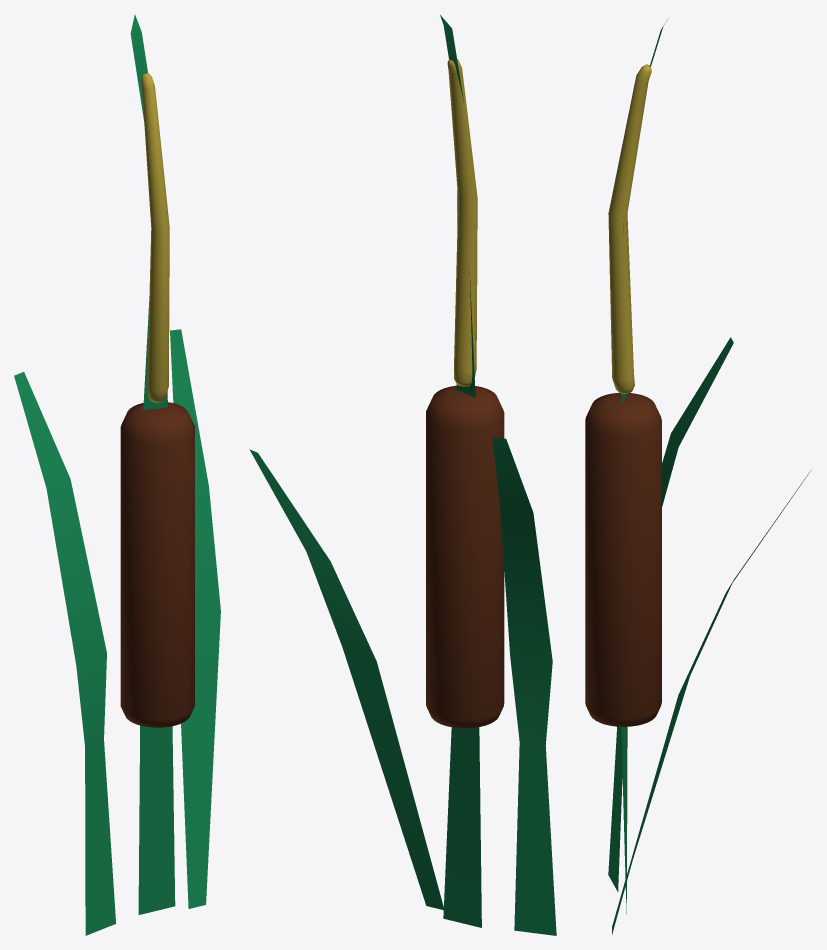
The model's file is cattail.glb.
The picture shows the model from 3 angles, left to right: view 1: azimuth 30°, elevation 25°; view 2: azimuth 150°, elevation 25°; view 3: azimuth 270°, elevation 25°; orthographic projection. The views are drawn at different scales.
Visible parts, largest first — view 1: Cylinder, Plane, Plane.001, Plane.002, Cylinder.001; view 2: Cylinder, Plane, Plane.001, Plane.002, Cylinder.001; view 3: Cylinder, Cylinder.001, Plane, Plane.001, Plane.002.
Boxes of the visible parts, x1,y1,x2,y2 form: Cylinder: (120,402,194,727); Plane: (14,372,115,935); Plane.001: (170,329,220,908); Plane.002: (130,14,175,914); Cylinder.001: (141,73,169,402); Cylinder: (426,385,504,728); Plane: (492,437,556,935); Plane.001: (249,449,443,909); Plane.002: (440,15,481,927); Cylinder.001: (447,59,477,386); Cylinder: (585,392,661,726); Cylinder.001: (608,64,651,394); Plane: (608,337,733,891); Plane.001: (612,470,810,934); Plane.002: (621,20,667,914).
Bounding box in the file's own units: 1.39 × 5.7 × 1.3.
